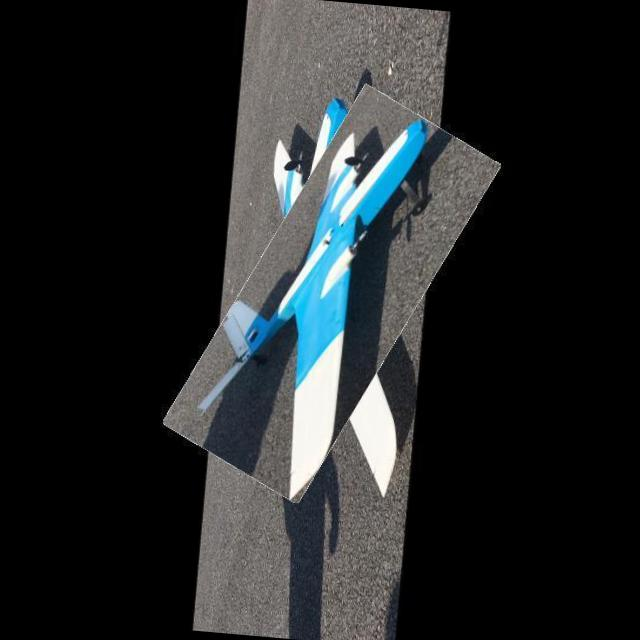UAV: (184, 101, 490, 488)
